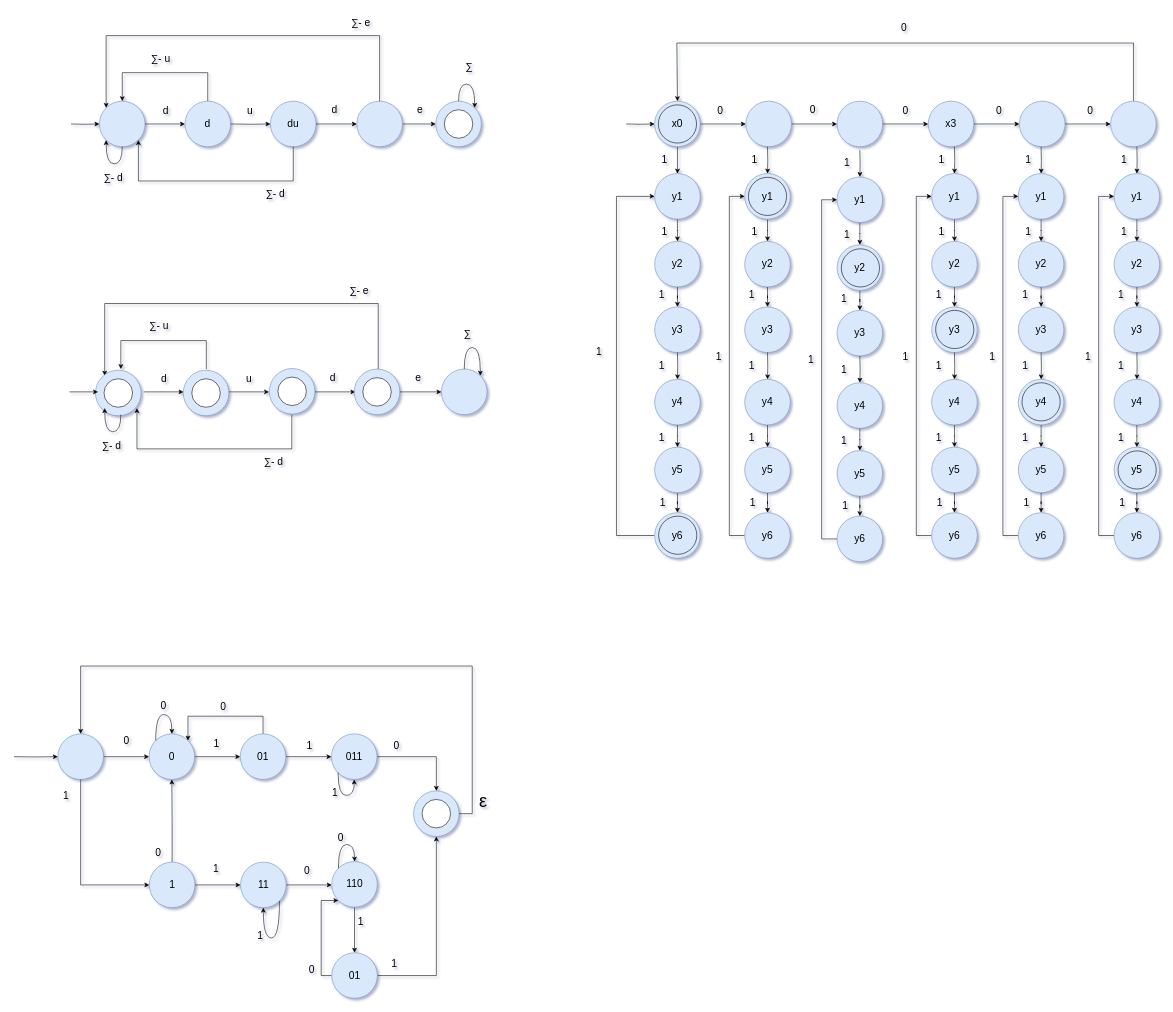
Some shapes in this 1173 by 1012 pixel diagram are drawn without their labels. The centre of each missing label's shape, as x and y in pixels:
"dud" goes at (x=379, y=124).
"x1" goes at (x=768, y=124).
"x2" goes at (x=859, y=124).
"x4" goes at (x=1042, y=124).
"x5" goes at (x=1133, y=124).
